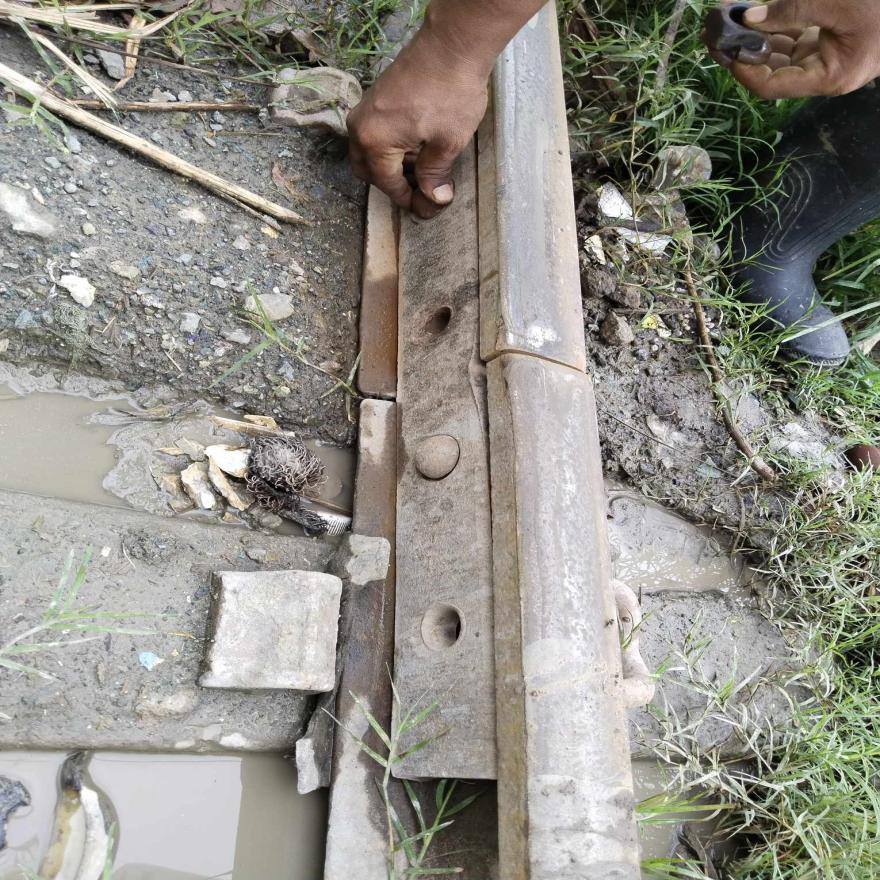railway-gap: (461, 308, 606, 412)
